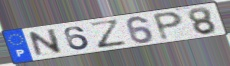6: (125, 15, 155, 45), (63, 26, 91, 51)
8: (186, 6, 218, 36)
N: (28, 27, 65, 58)
P: (151, 11, 185, 42)
Z: (87, 19, 130, 51)
